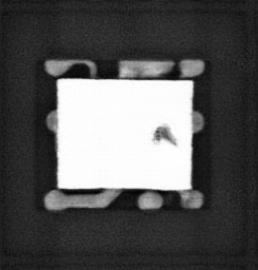DIE_INK: (153, 121, 178, 148)
